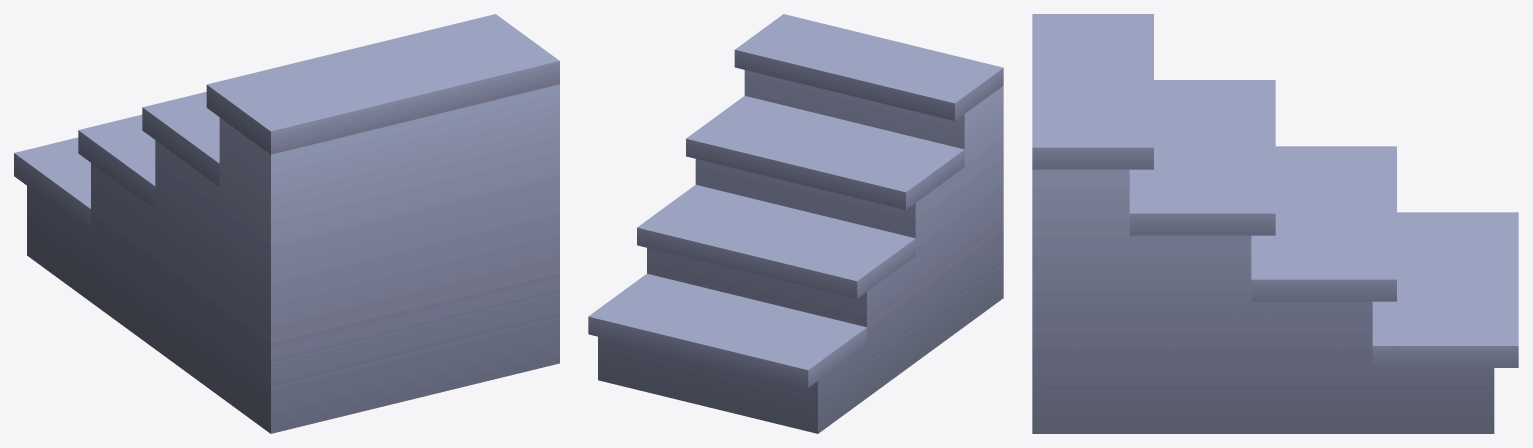
File: stairs-closed-short.glb
The picture shows the model from 3 angles, left to right: view 1: azimuth 30°, elevation 25°; view 2: azimuth 150°, elevation 25°; view 3: azimuth 270°, elevation 25°; orthographic projection. The views are drawn at different scales.
Visible parts, largest first — view 1: stairs-closed-short; view 2: stairs-closed-short; view 3: stairs-closed-short.
Boxes of the visible parts, x1,y1,x2,y2 form: stairs-closed-short: (14, 14, 559, 433); stairs-closed-short: (588, 14, 1003, 433); stairs-closed-short: (1032, 14, 1518, 433).
Bounding box in the file's own units: 1.3 × 1.3 × 2.
Materials: 1 (1 with a texture image).
